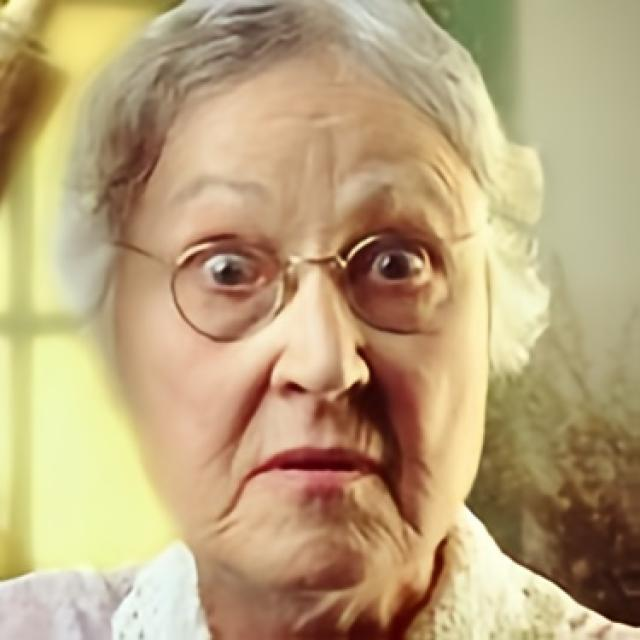Fear: (116, 46, 488, 596)
